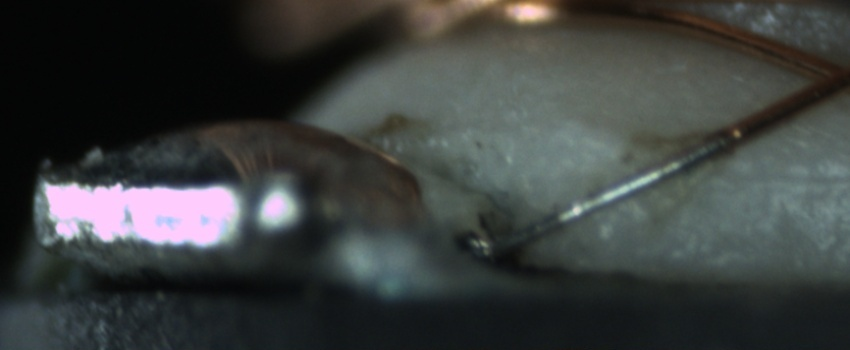CL: (781, 46, 846, 105)
DL: (692, 149, 850, 213)
TS: (490, 127, 736, 255)
